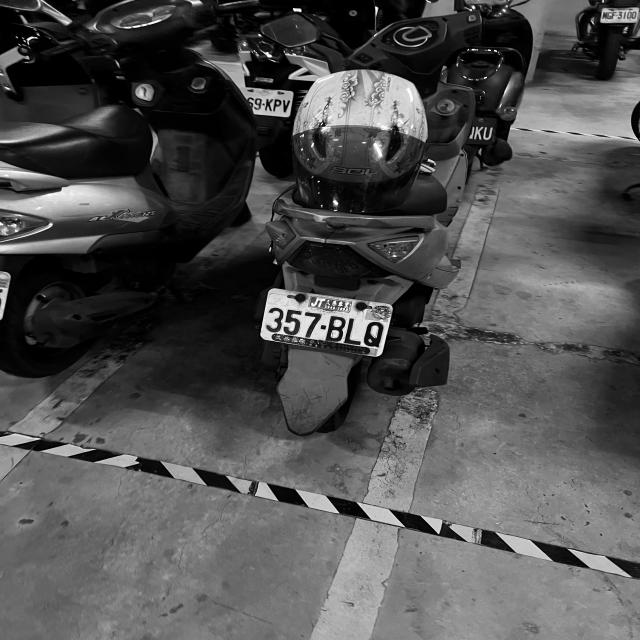-: (319, 324, 326, 330), (263, 104, 265, 105)
0: (627, 11, 631, 19), (632, 12, 636, 19)
1: (623, 12, 627, 19)
3: (268, 306, 284, 332), (618, 12, 622, 20)
5: (284, 308, 303, 336)
7: (303, 310, 321, 338)
9: (254, 97, 262, 110)
B: (326, 315, 345, 342)
F: (612, 12, 616, 19)
G: (607, 12, 612, 19)
K: (474, 126, 484, 140), (265, 98, 273, 111)
L: (346, 317, 361, 345)
Q: (364, 320, 384, 348)
U: (483, 126, 494, 141)
V: (282, 98, 291, 113)
plate: (259, 290, 394, 356), (601, 8, 638, 23), (273, 98, 282, 112)
